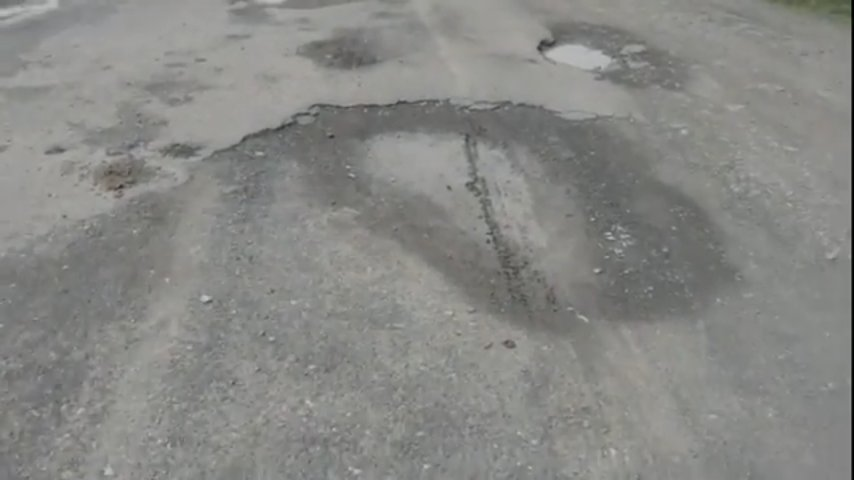pothole: (366, 211, 594, 378)
